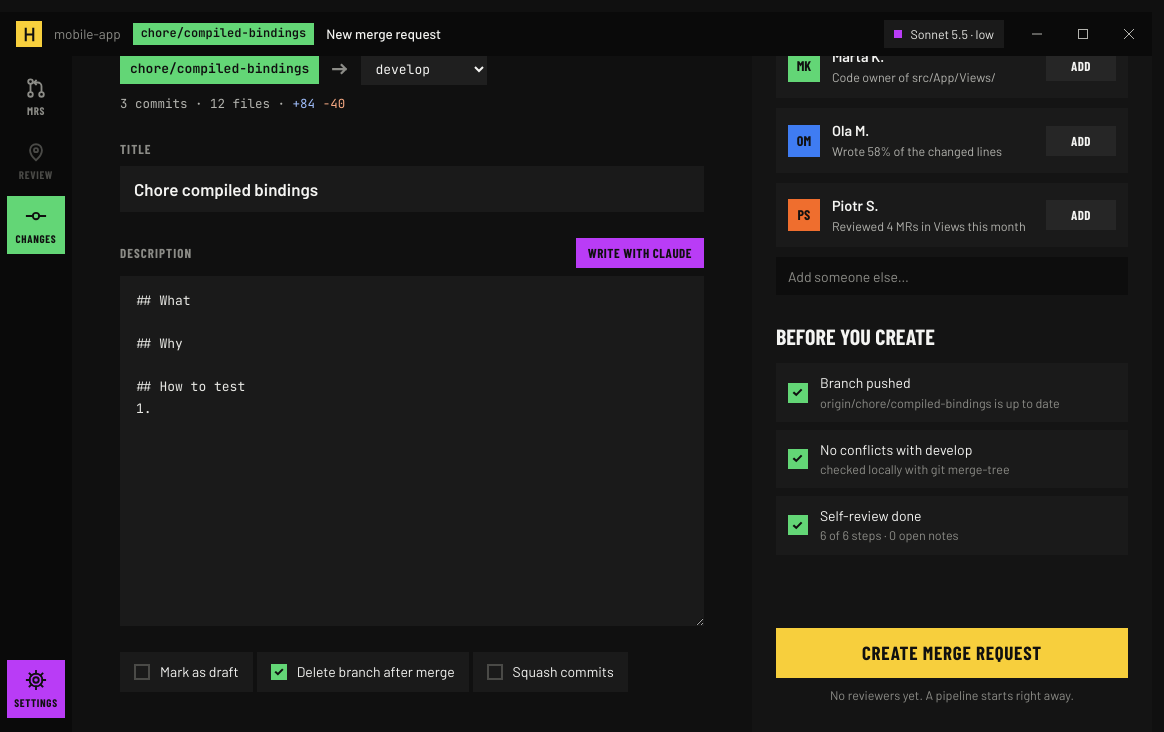
Test: S-11 created (F-27.6) › F-27.6 the green block names the MR: Merge request created, !483 and the title
(page scrolled)
Expected: the field labelled "Title" is not empty, [120, 166, 704, 212]
Click the button "Create merge request". click: (952,653)
box: [776, 628, 1128, 678]
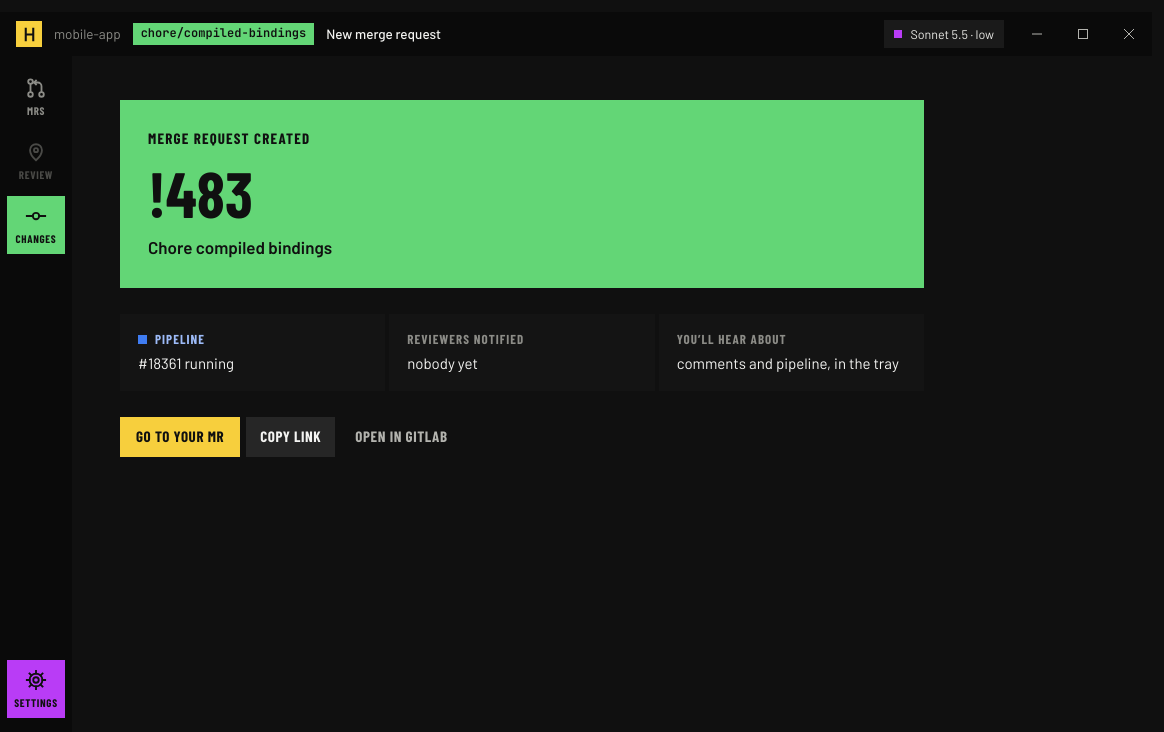
Now the text "Merge request created" is shown, box [148, 129, 310, 147]
Now the text "!483" is shown, box [148, 154, 253, 231]
Now the text "Chore compiled bindings" is shown, box [148, 237, 332, 257]
